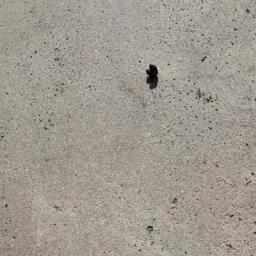FOD: (145, 64, 164, 92)
